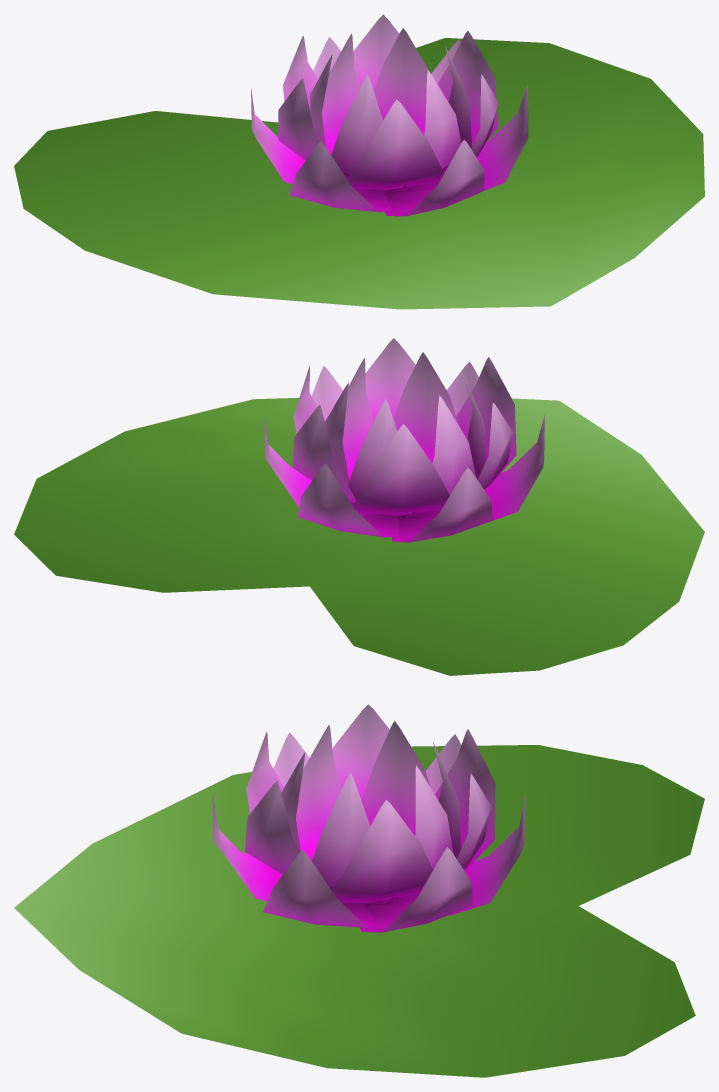
The model's file is flower (2).fbx.
3 renders of one model, top to bottom at view 1: azimuth 30°, elevation 25°; view 2: azimuth 150°, elevation 25°; view 3: azimuth 270°, elevation 25°, orthographic. The views are drawn at different scales.
Visible parts, largest first — view 1: 02_Anthurium.001; view 2: 02_Anthurium.001; view 3: 02_Anthurium.001.
Part boxes in pixels (left/top/right/bottom): 02_Anthurium.001: left=14, top=14, right=704, bottom=309; 02_Anthurium.001: left=14, top=338, right=704, bottom=675; 02_Anthurium.001: left=14, top=704, right=704, bottom=1077.
Bounding box in the file's own units: 99.82 × 22.29 × 87.56.
